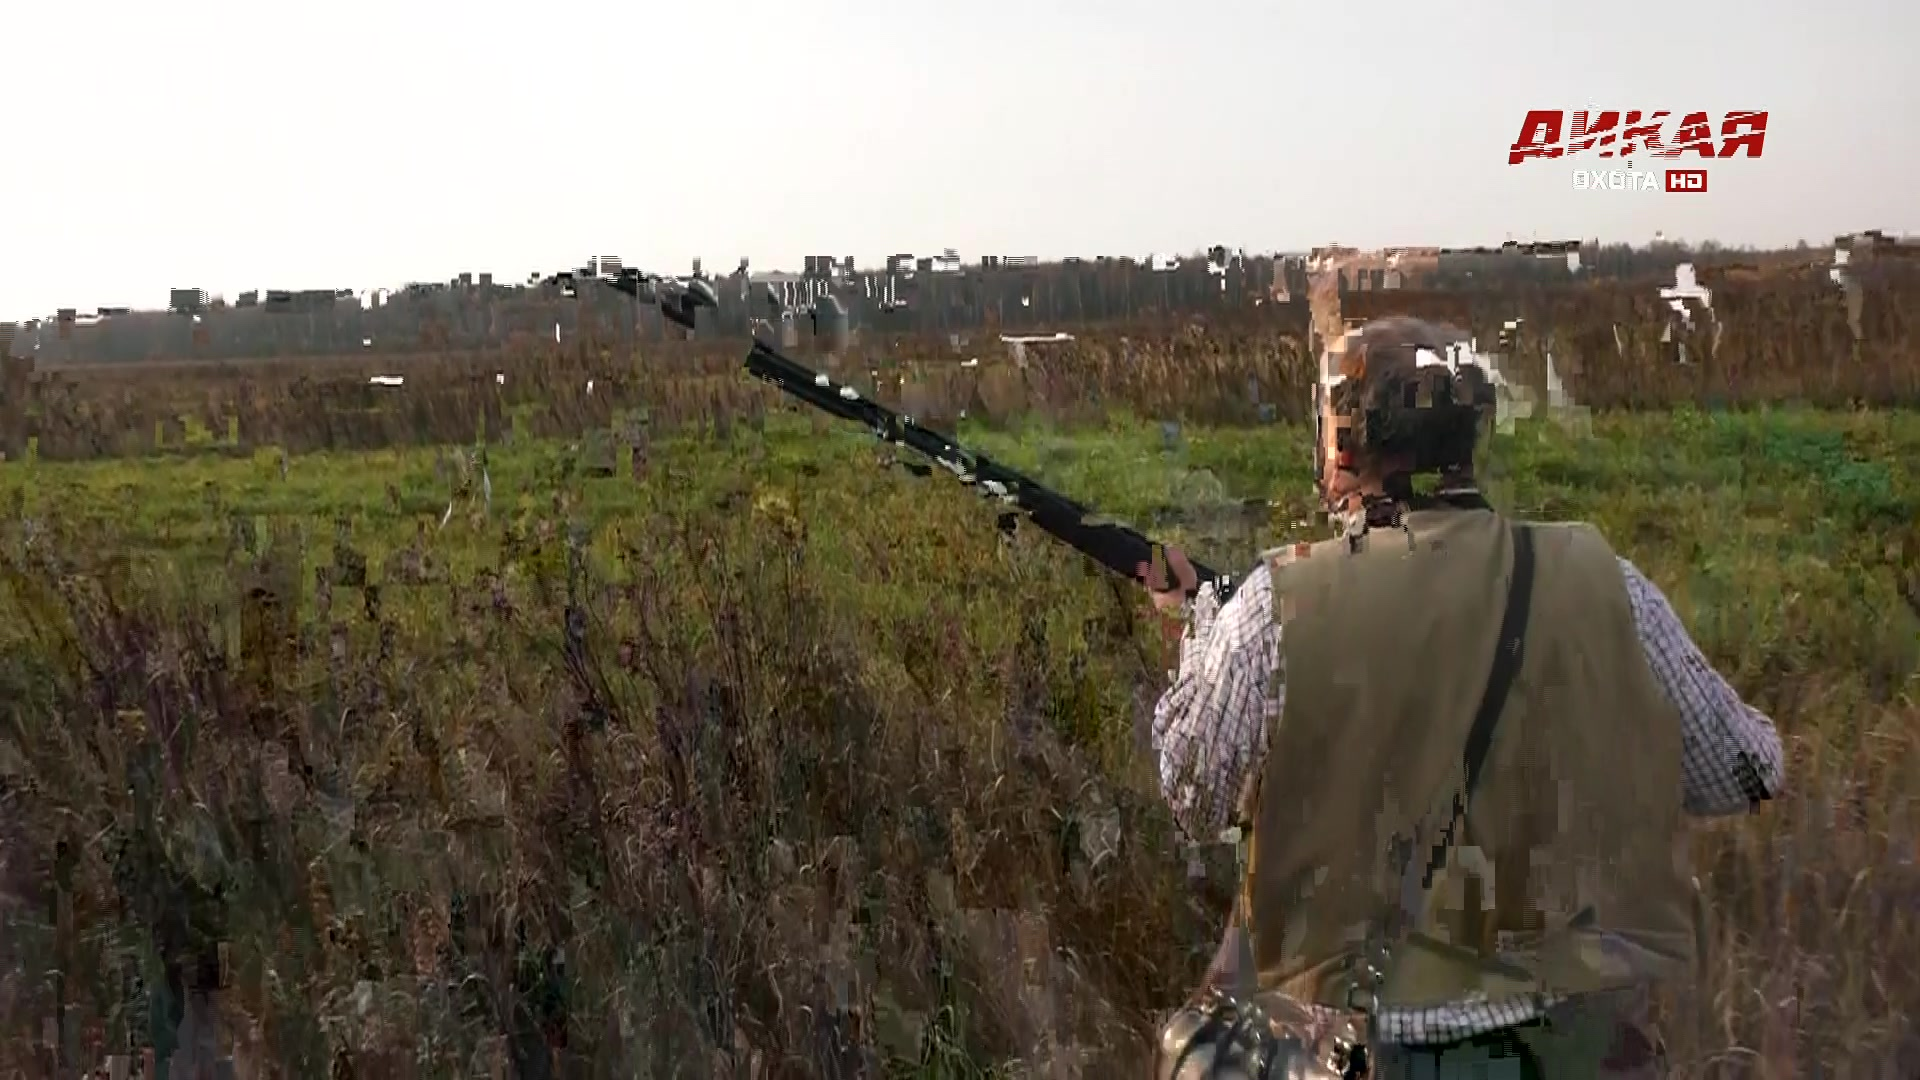Dikaya_Ohota_HD: (1503, 105, 1774, 196)
